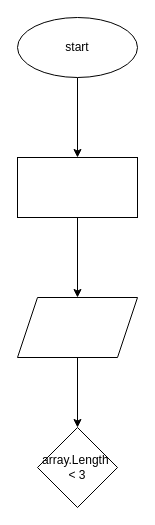
This 155x525 diagram has some shape labels left out. The box of each missing label's shape, as (x1, y1, x2, y2) in pixels:
a, b, c, d, e: (16, 296, 138, 358)
array{a, b, c, d, e}: (16, 156, 138, 218)
